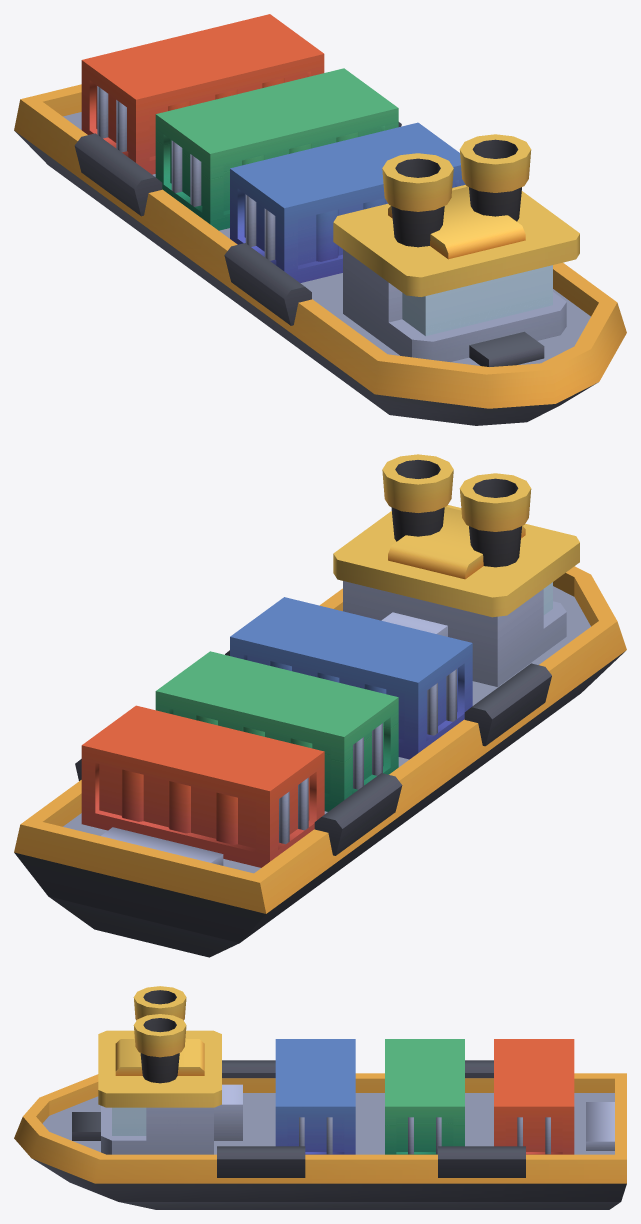
The model's file is ship-cargo-a-transformed-transformed.glb.
The picture shows the model from 3 angles, top to bottom: view 1: azimuth 30°, elevation 25°; view 2: azimuth 150°, elevation 25°; view 3: azimuth 270°, elevation 25°; orthographic projection. The views are drawn at different scales.
Parts seen in each view (by area): view 1: ship-cargo-a, cargo-b, cargo-c, cargo-a; view 2: ship-cargo-a, cargo-c, cargo-a, cargo-b; view 3: ship-cargo-a, cargo-a, cargo-c, cargo-b.
Part boxes in pixels (x1,y1,x2,y2): ship-cargo-a: [14, 84, 626, 425]; cargo-b: [155, 68, 398, 230]; cargo-c: [81, 14, 324, 174]; cargo-a: [230, 122, 465, 282]; ship-cargo-a: [14, 454, 626, 957]; cargo-c: [81, 705, 324, 867]; cargo-a: [230, 597, 472, 759]; cargo-b: [155, 651, 398, 811]; ship-cargo-a: [14, 986, 626, 1209]; cargo-a: [275, 1039, 355, 1154]; cargo-c: [494, 1039, 574, 1154]; cargo-b: [385, 1039, 464, 1154].
Bounding box in the file's own units: 3.92 × 3.38 × 10.55.
Materials: 1 (1 with a texture image).
